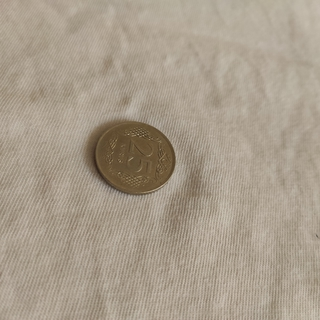25KURUS: (92, 119, 177, 195)
